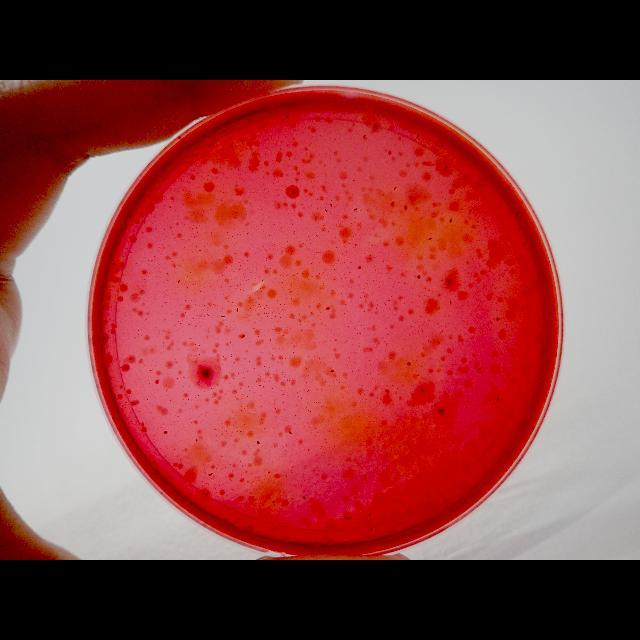colony: (198, 366, 214, 380), (512, 209, 522, 221), (447, 214, 455, 226), (288, 186, 296, 197), (442, 162, 450, 172), (414, 132, 422, 140), (402, 204, 410, 212), (476, 182, 484, 190), (418, 386, 426, 394), (416, 272, 422, 282), (222, 128, 228, 136), (352, 206, 358, 214), (372, 122, 378, 130), (376, 111, 382, 119), (361, 132, 367, 140), (392, 184, 398, 192), (516, 225, 522, 233), (444, 277, 450, 285), (476, 364, 482, 372), (438, 407, 444, 415), (246, 524, 254, 530), (389, 200, 395, 207), (495, 394, 499, 404), (284, 114, 290, 120), (328, 202, 334, 208), (428, 236, 434, 242), (494, 316, 500, 322), (448, 299, 454, 305), (536, 375, 542, 381), (486, 397, 492, 403), (450, 440, 456, 446), (432, 402, 438, 408), (406, 361, 412, 367), (110, 261, 116, 267), (234, 307, 240, 313), (342, 534, 348, 540), (369, 526, 375, 532), (440, 142, 444, 150), (330, 368, 334, 376), (346, 514, 350, 522), (180, 138, 184, 144), (357, 264, 361, 270), (220, 314, 226, 318), (240, 334, 246, 338), (208, 472, 214, 476), (205, 491, 209, 497), (272, 498, 276, 504), (302, 494, 306, 500), (288, 430, 292, 436), (256, 440, 260, 446), (367, 512, 371, 518), (350, 544, 354, 550), (324, 208, 328, 212), (326, 306, 330, 310), (162, 488, 166, 492)
